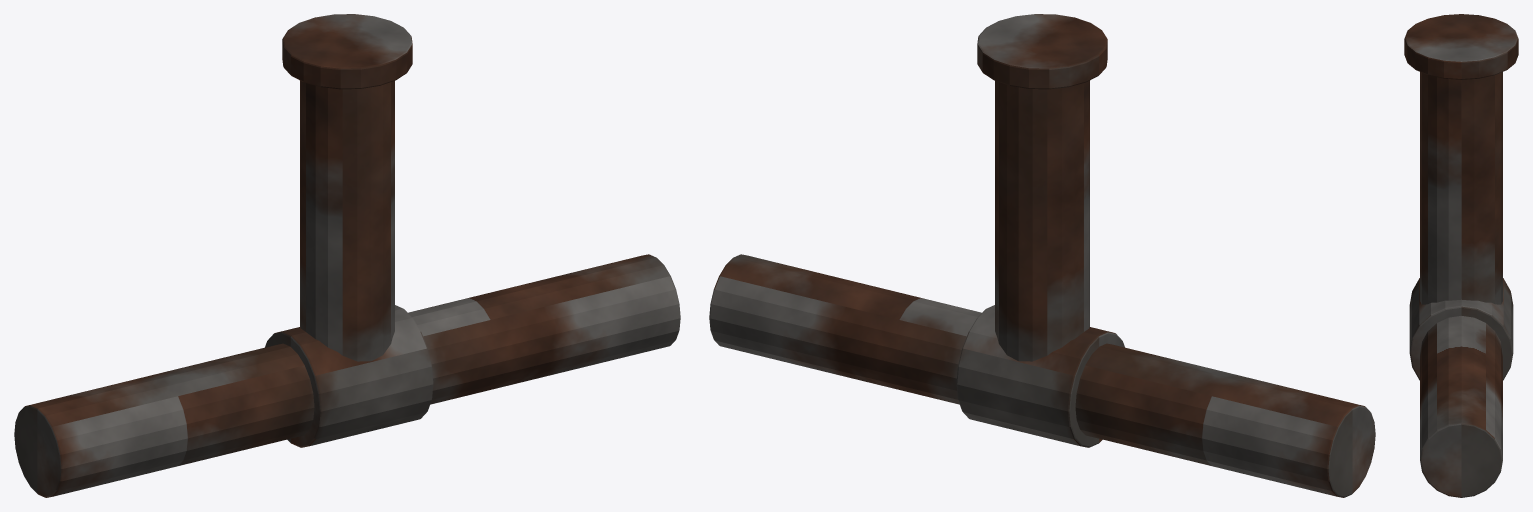
Rendered from F23_pipe_tjunction.glb.
3 renders of one model, left to right at view 1: azimuth 30°, elevation 25°; view 2: azimuth 150°, elevation 25°; view 3: azimuth 270°, elevation 25°, orthographic. The views are drawn at different scales.
Visible parts, largest first — view 1: F23_pipe_tjunction; view 2: F23_pipe_tjunction; view 3: F23_pipe_tjunction.
Boxes of the visible parts, box(x1,y1,x2,y2) form: F23_pipe_tjunction: box(14, 14, 680, 497); F23_pipe_tjunction: box(709, 14, 1375, 497); F23_pipe_tjunction: box(1404, 14, 1518, 497).
Size of the model in its own units: 1 by 0.6 by 0.1833.
1 material, 1 textured.
